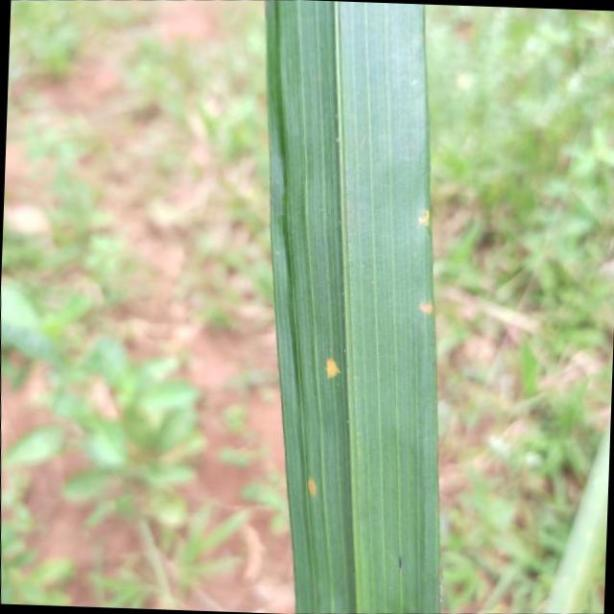Kalium: (264, 0, 443, 614)
